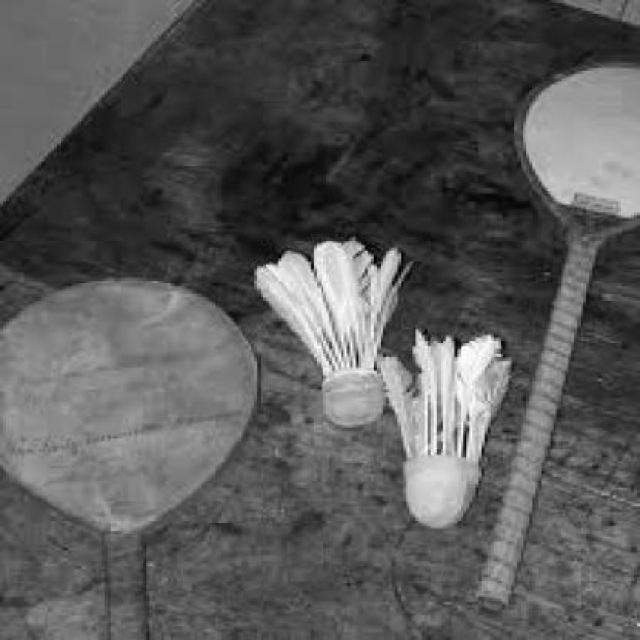Shuttlecock: (256, 236, 410, 427)
